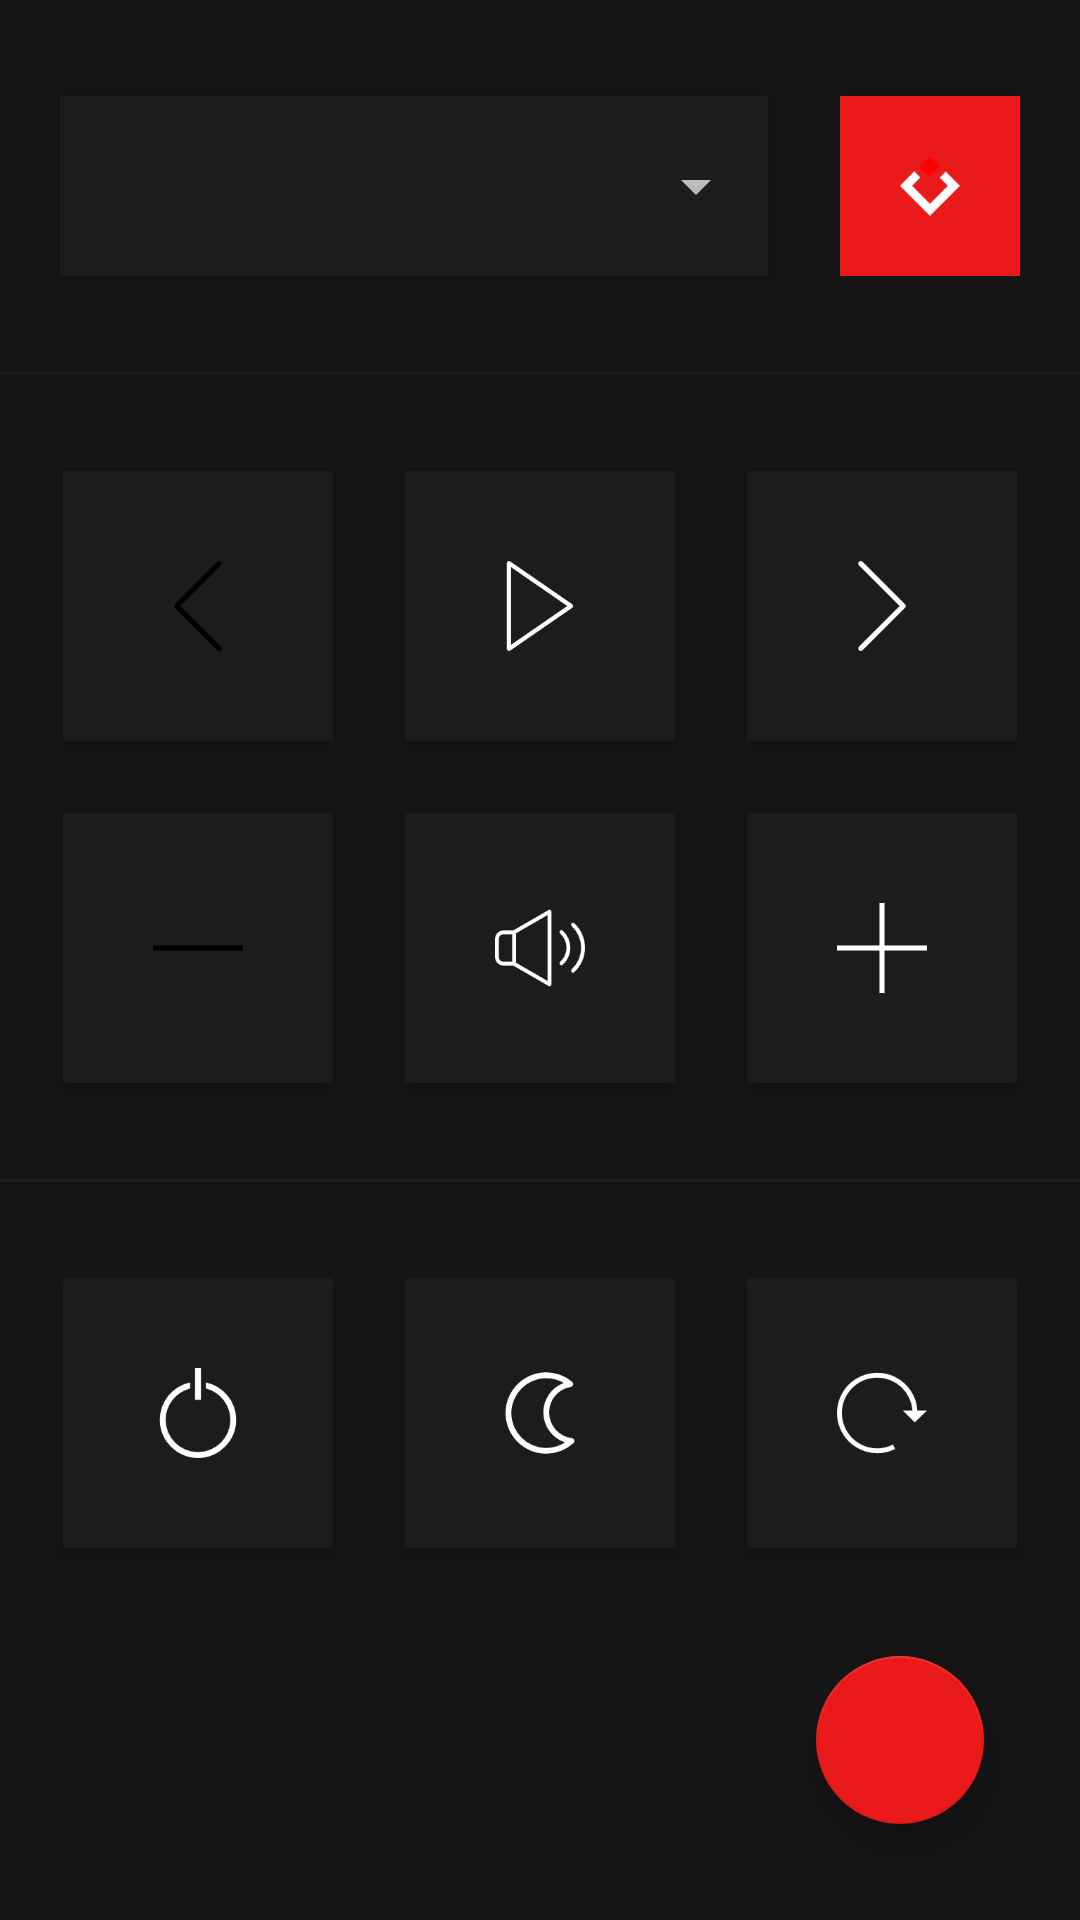

Icon click points for this 1080px x 1920px phone screenshot, format (x=x, y=y):
next: (x=882, y=606)
play: (x=539, y=606)
prev: (x=198, y=606)
restart: (x=882, y=1413)
shutdown: (x=198, y=1413)
sleep: (x=540, y=1413)
